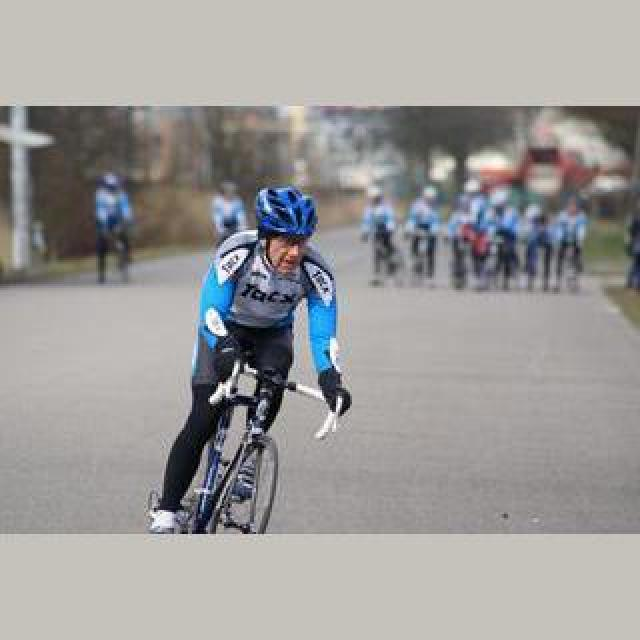MC-Bike: (152, 188, 344, 530)
Person: (166, 350, 314, 532)
